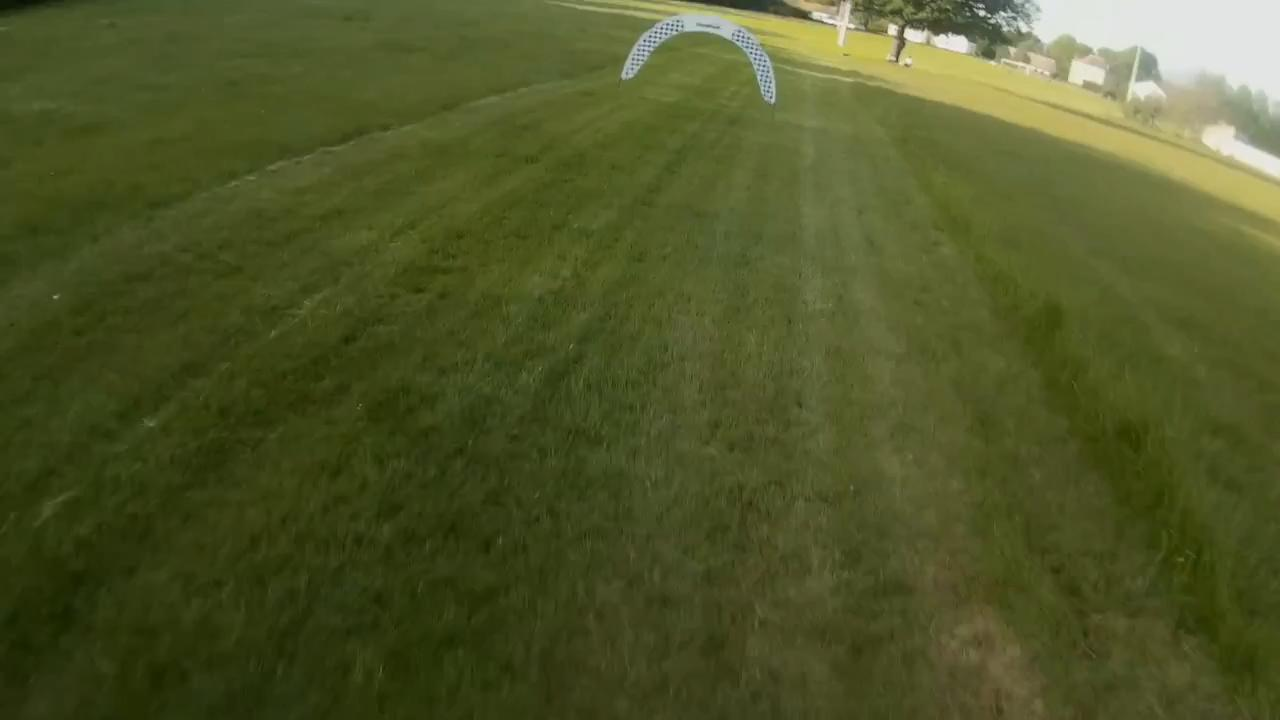gate: (618, 10, 777, 103)
